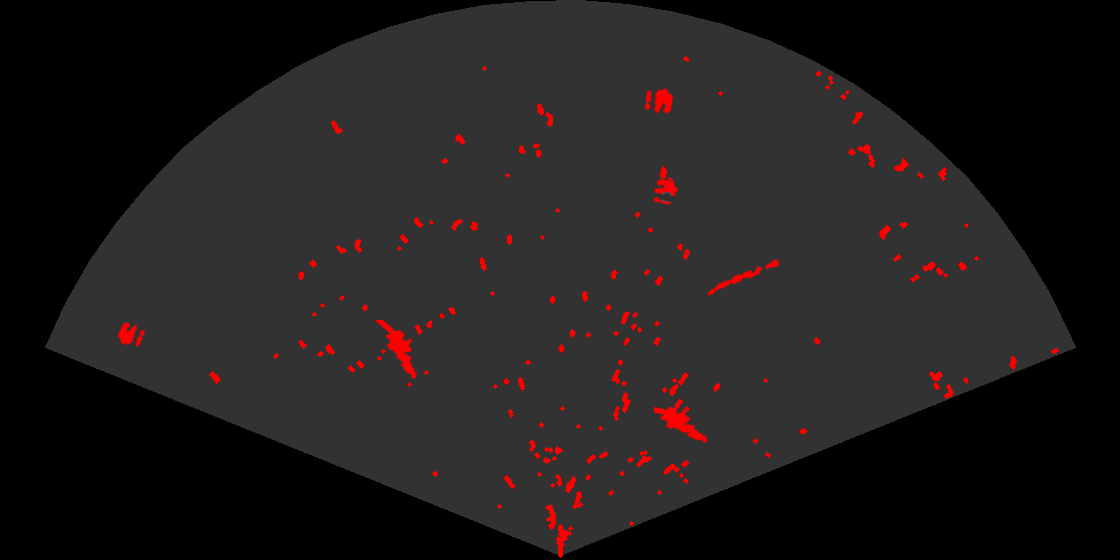ball: (643, 87, 675, 116), (116, 320, 147, 348), (652, 177, 679, 206)
chain: (705, 258, 783, 297)
frogman: (373, 320, 419, 381), (654, 405, 710, 444)
